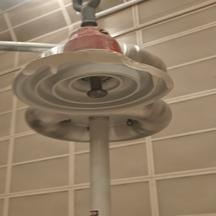insulator: (1, 17, 175, 125)
